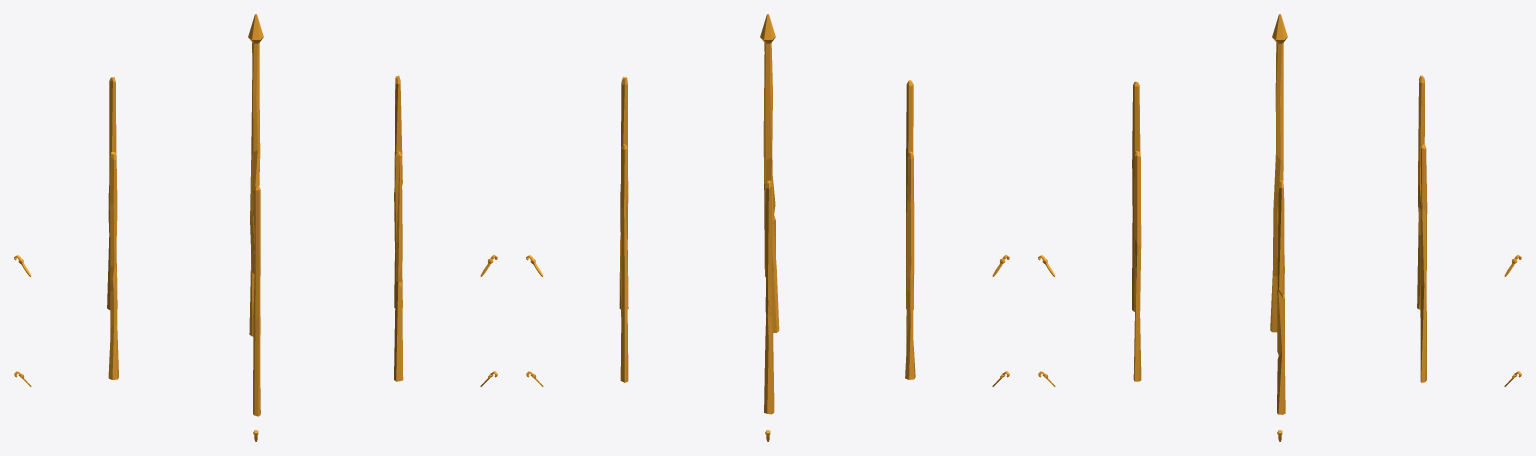
Rendered from SM_Tent_Hexagon_Striped_Construct_A_Frame_Fantasy.fbx.
The picture shows the model from 3 angles, left to right: view 1: azimuth 30°, elevation 25°; view 2: azimuth 150°, elevation 25°; view 3: azimuth 270°, elevation 25°; orthographic projection.
Visible parts, largest first — view 1: tent-hexagon-striped-construct-a-frame-fantasy; view 2: tent-hexagon-striped-construct-a-frame-fantasy; view 3: tent-hexagon-striped-construct-a-frame-fantasy.
Part boxes in pixels (left/top/right/bottom): tent-hexagon-striped-construct-a-frame-fantasy: left=14, top=14, right=497, bottom=441; tent-hexagon-striped-construct-a-frame-fantasy: left=526, top=14, right=1009, bottom=441; tent-hexagon-striped-construct-a-frame-fantasy: left=1038, top=14, right=1521, bottom=441.
Bounding box in the file's own units: 8.07 × 5.31 × 7.02.
